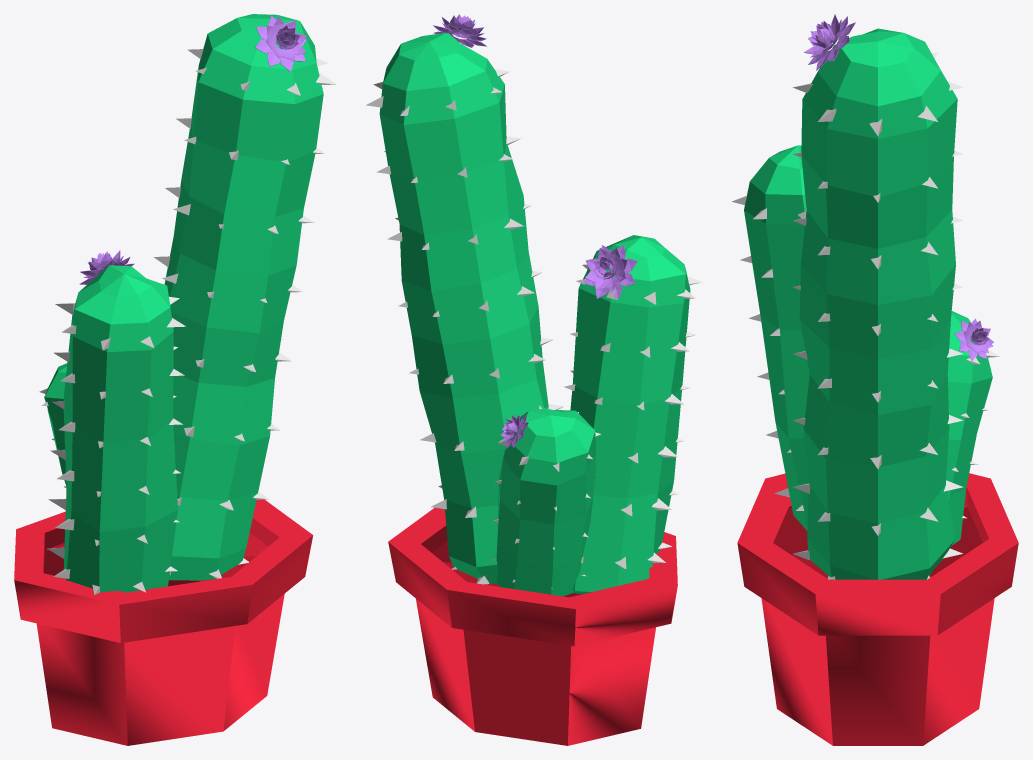
Rendered from Cactus3.fbx.
3 renders of one model, left to right at view 1: azimuth 30°, elevation 25°; view 2: azimuth 150°, elevation 25°; view 3: azimuth 270°, elevation 25°, orthographic. The views are drawn at different scales.
Parts seen in each view (by area): view 1: Capsule_2, Pot, Capsule, Capsule_1; view 2: Capsule_2, Pot, Capsule, Capsule_1; view 3: Capsule_2, Pot, Capsule, Capsule_1.
Part boxes in pixels (left/top/right/bottom): Capsule_2: left=164, top=14, right=323, bottom=580; Pot: left=14, top=499, right=313, bottom=745; Capsule: left=63, top=265, right=177, bottom=592; Capsule_1: left=44, top=363, right=67, bottom=485; Capsule_2: left=379, top=33, right=548, bottom=583; Pot: left=388, top=507, right=677, bottom=745; Capsule: left=570, top=235, right=690, bottom=593; Capsule_1: left=496, top=408, right=596, bottom=596; Capsule_2: left=799, top=28, right=957, bottom=579; Pot: left=737, top=473, right=1018, bottom=745; Capsule: left=744, top=145, right=809, bottom=530; Capsule_1: left=946, top=311, right=992, bottom=544.
Size of the model in its own units: 293 by 599 by 212.
